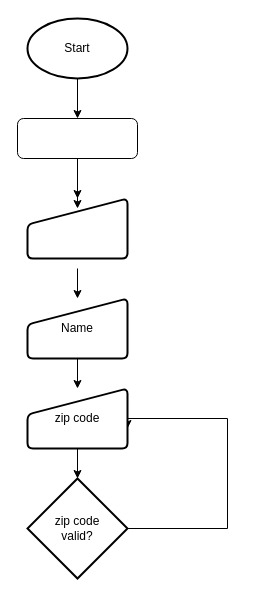
This 253x596 diagram has some shape labels left out. The shapes that lost their labels are listed below. From the top down, each one's box as (x1, y1, x2, y2) in pixels, then its label:
(16, 118, 138, 158): Login
(26, 197, 128, 259): email
